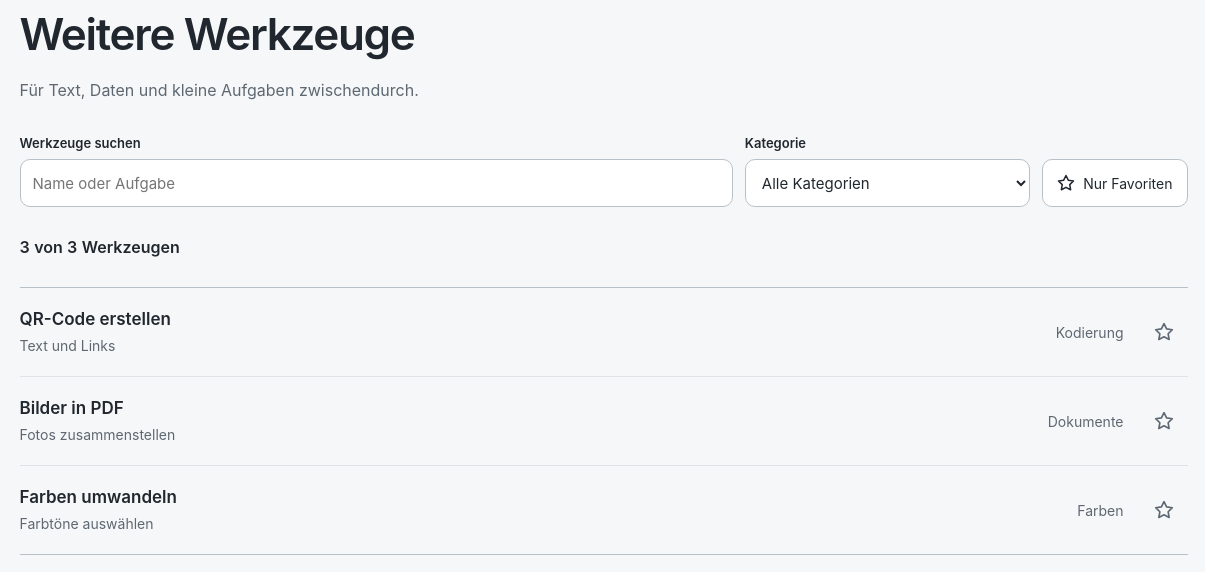
Test: clears active filters even with matching results and returns focus to search
Type "PDF" into the search field labelled "Werkzeuge suchen".
click(376, 183); type("PDF")  # box [20,159,733,207]
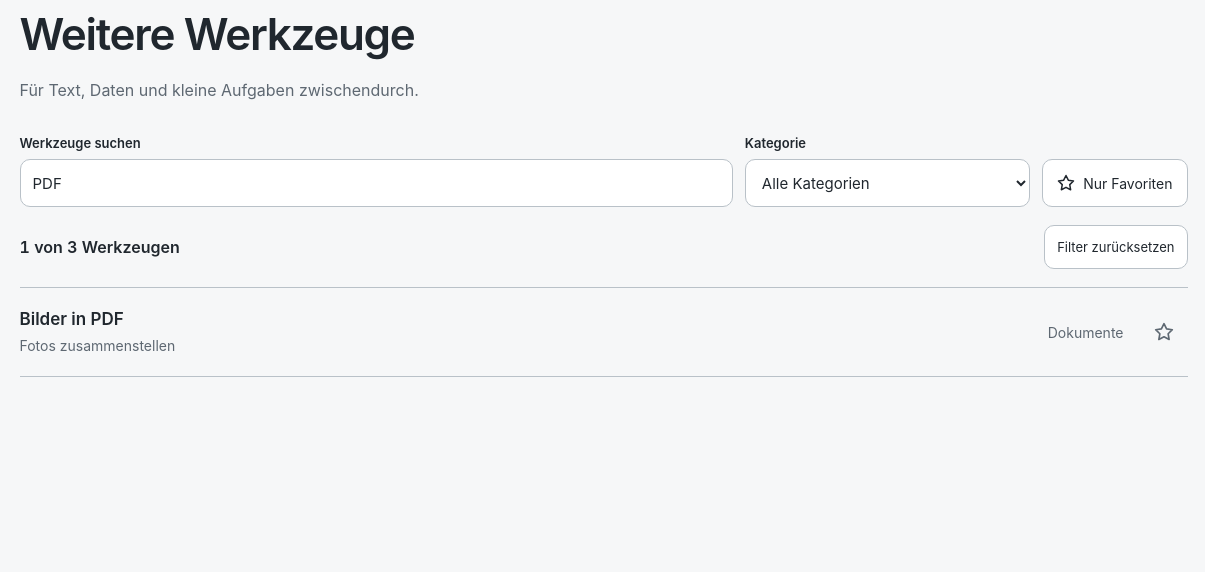
Expected: the message reads "1 von 3 Werkzeugen", [20,237,180,257]
Click the button "Filter zurücksetzen".
click(1116, 247)  # box [1044,225,1188,269]
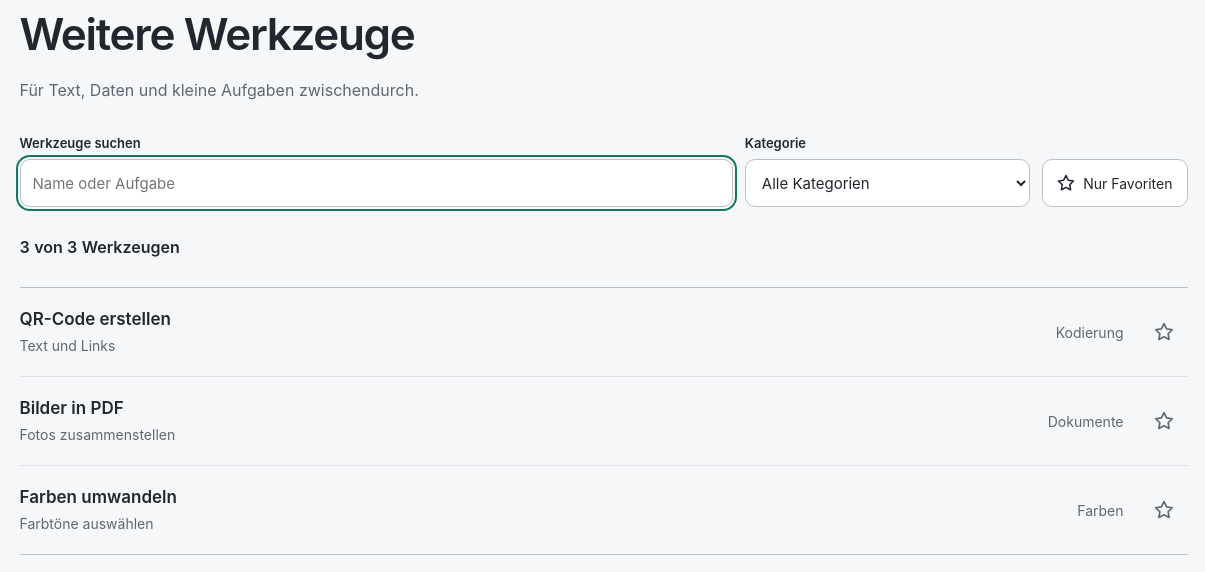
Expected: the search field labelled "Werkzeuge suchen" is empty, [20,159,733,207]
Expected: the message reads "3 von 3 Werkzeugen", [20,237,180,257]
